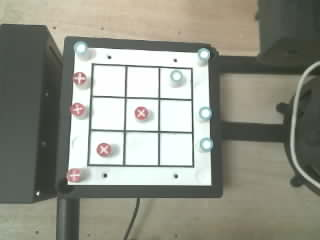blue circle: (200, 138, 214, 152), (73, 41, 87, 54), (199, 107, 211, 120), (170, 70, 182, 82), (198, 48, 209, 60)
board: (67, 42, 212, 185)
cells: (90, 131, 123, 164), (160, 133, 192, 165), (126, 132, 157, 165), (91, 98, 123, 129), (126, 99, 158, 130), (93, 65, 124, 96), (160, 100, 191, 131), (127, 67, 158, 97), (160, 68, 191, 98)
grid: (87, 64, 194, 167)
red cross: (73, 72, 87, 86), (66, 168, 80, 182), (135, 106, 149, 120), (70, 103, 85, 116), (96, 143, 111, 156)
